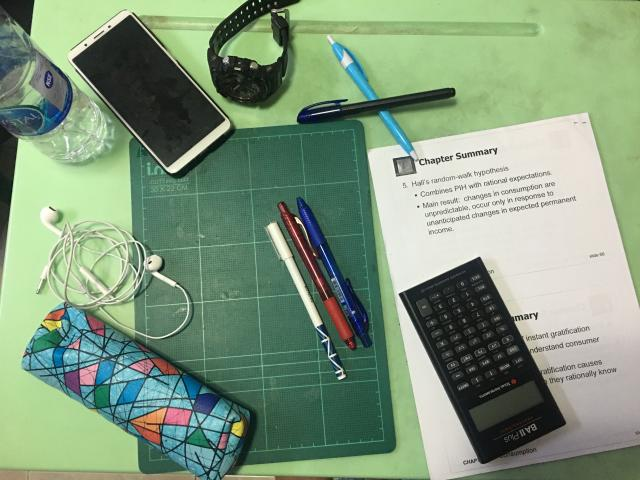Mobile phone: (68, 11, 236, 180)
Pen: (265, 200, 373, 372), (322, 28, 424, 166), (297, 88, 458, 125)
Watch: (209, 0, 302, 108)
bottle: (0, 12, 108, 165)
paper: (367, 113, 640, 480)
wire: (35, 205, 183, 312)
